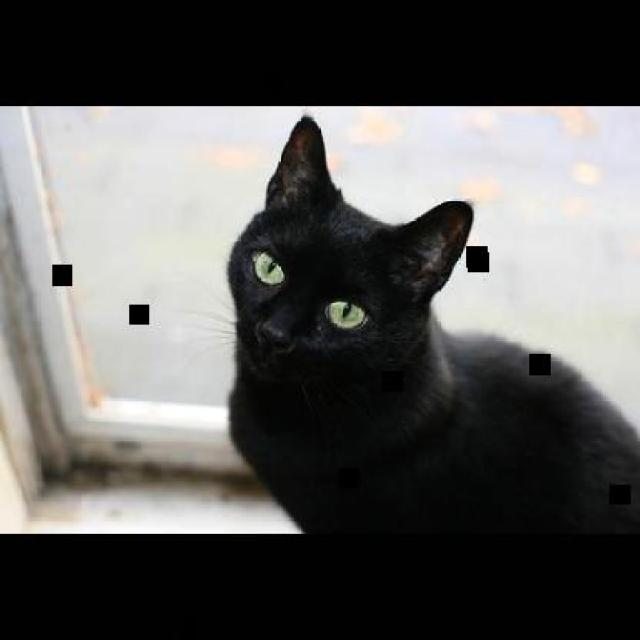unauthorized: (220, 114, 638, 537)
